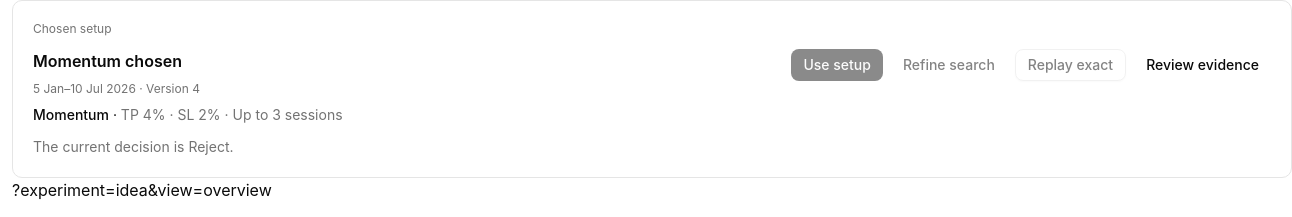
it: retains evidence access when a chosen candidate is subsequently rejected
Expected: the text "The current decision is Reject." is shown, [33, 138, 234, 155]
Expected: the button "Use setup" is disabled, [792, 49, 883, 81]
What coordinates should you click on to do the following:
click the button "Review evidence"
I would click on:
 (1203, 65)
Its box is [1134, 49, 1271, 81].
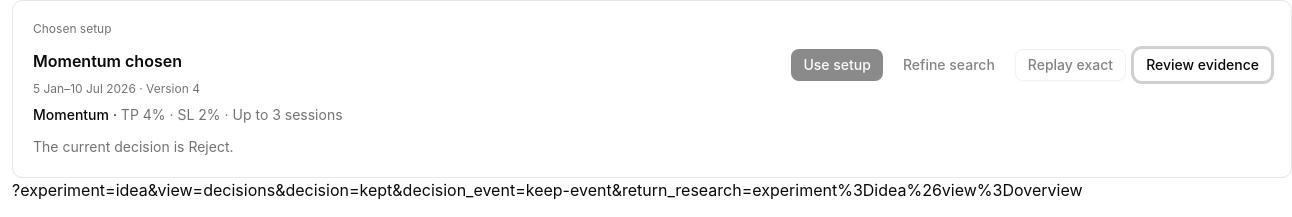
Now the text named "Location" shows "decision_event=keep-event", box [12, 180, 1082, 200]
